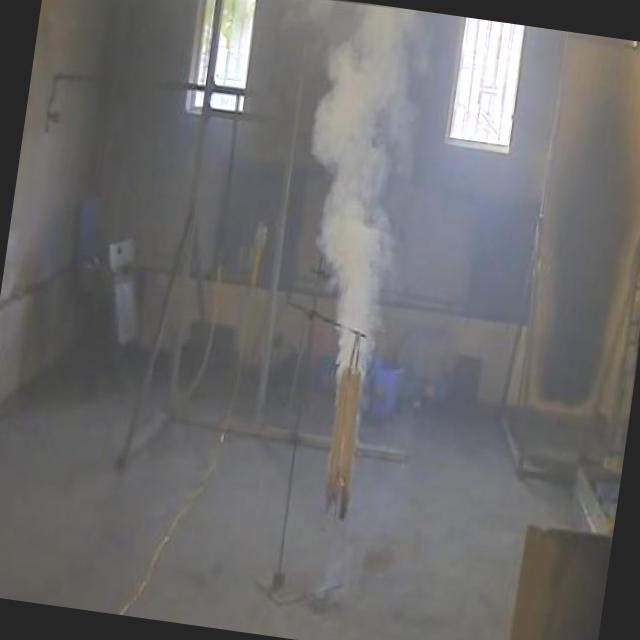smoke: (265, 0, 456, 401)
